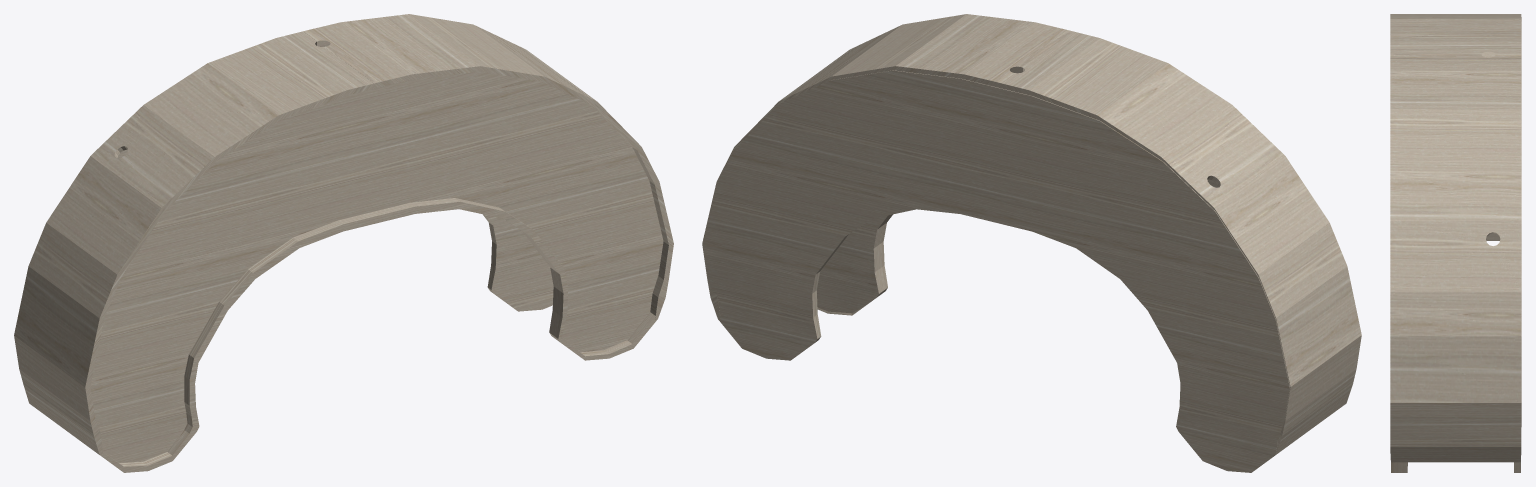
The model's file is entity33210.gltf.
3 views of the same model, side by side, from view 1: azimuth 30°, elevation 25°; view 2: azimuth 150°, elevation 25°; view 3: azimuth 270°, elevation 25° (orthographic). The views are drawn at different scales.
Visible parts, largest first — view 1: node_Cube_001; view 2: node_Cube_001; view 3: node_Cube_001.
Boxes of the visible parts, x1,y1,x2,y2 form: node_Cube_001: [14, 14, 673, 472]; node_Cube_001: [702, 14, 1361, 472]; node_Cube_001: [1390, 14, 1521, 472].
Size of the model in its own units: 27.28 by 14.74 by 5.74.
1 material, 1 textured.
